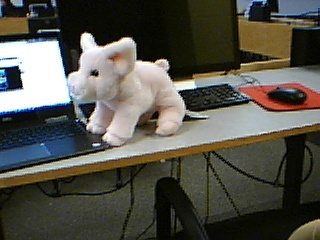piggy: (65, 29, 187, 149)
